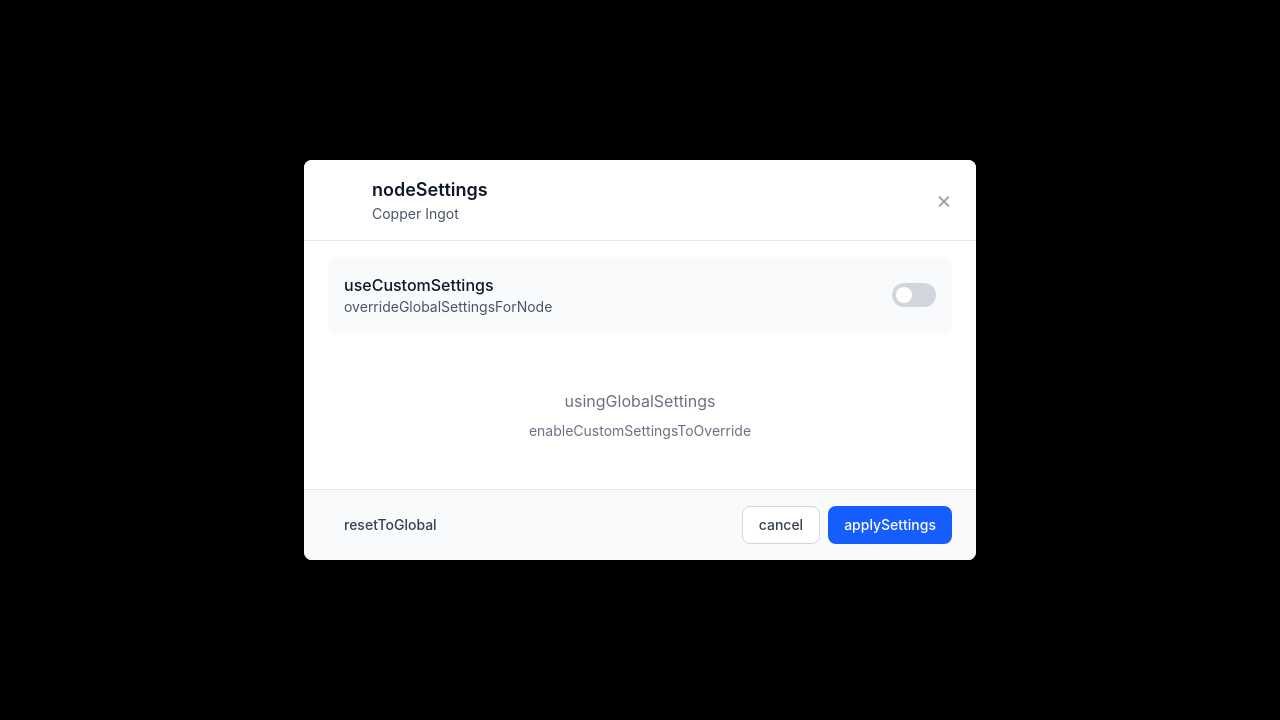
Test: NodeSettingsModal › resetToGlobal で clearNodeOverride が呼ばれ、ガイダンステキストが表示される
オーバーライドON→リセット
Click the 2nd button at (914, 295), box [892,283,936,307]
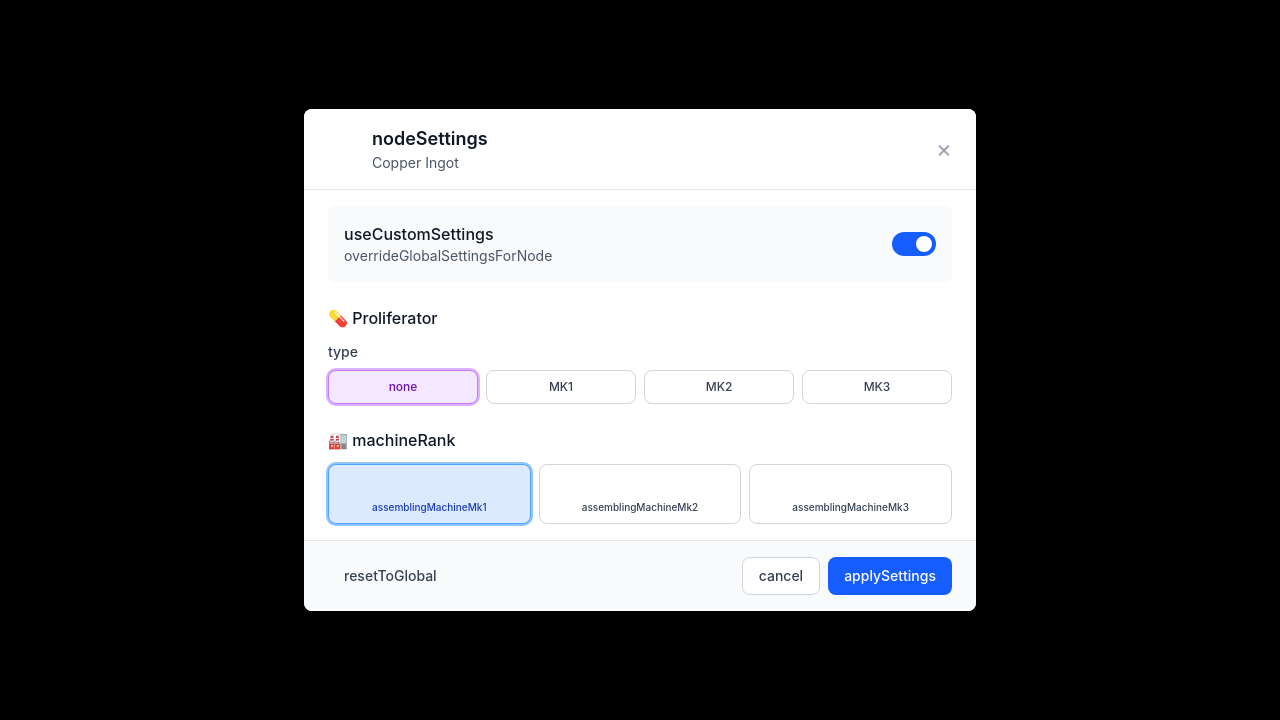
Click the button "resetToGlobal" at (390, 576), box [328,558,453,594]
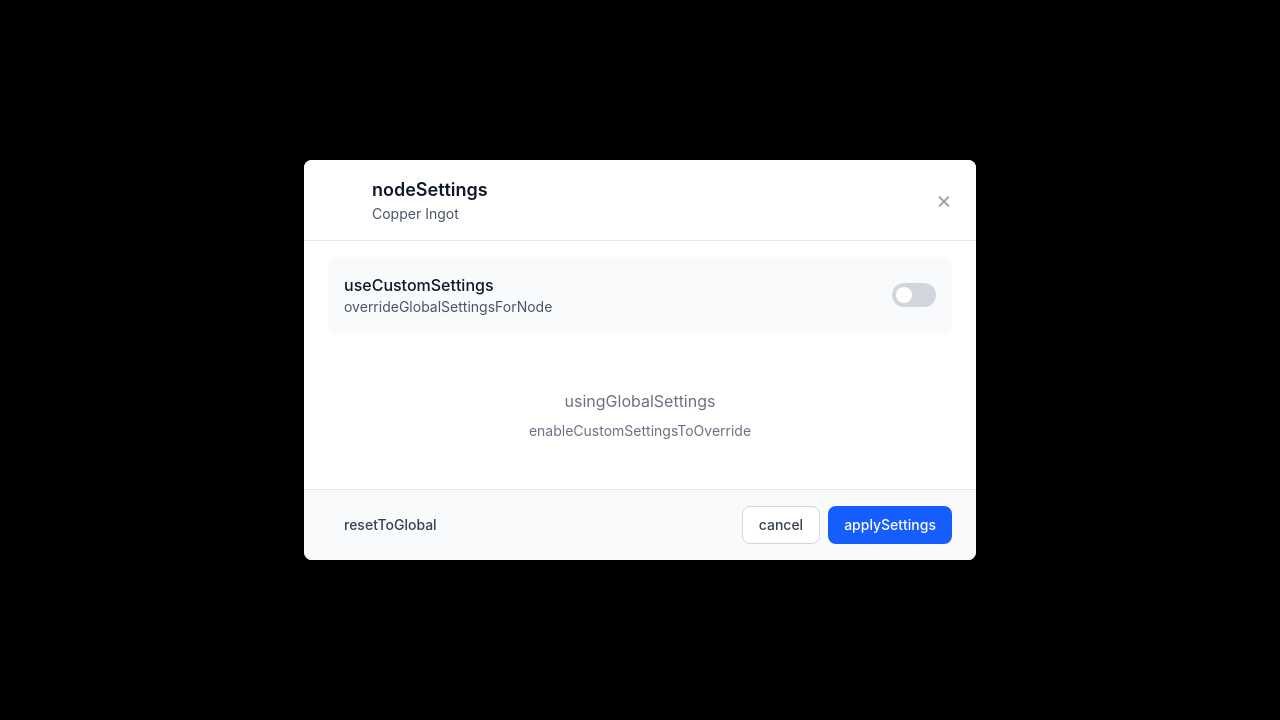
Result: the text "usingGlobalSettings" is shown at [564,391,715,411]
